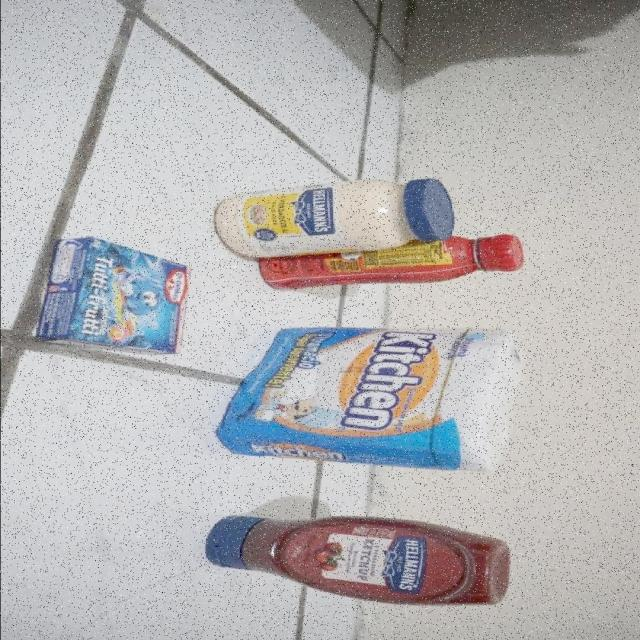ChocolateMilk: (259, 231, 525, 292)
Gelatine: (32, 236, 192, 358)
Ketchup: (202, 514, 510, 606)
Mayonnaise: (212, 178, 458, 260)
Napkin: (215, 327, 522, 475)
